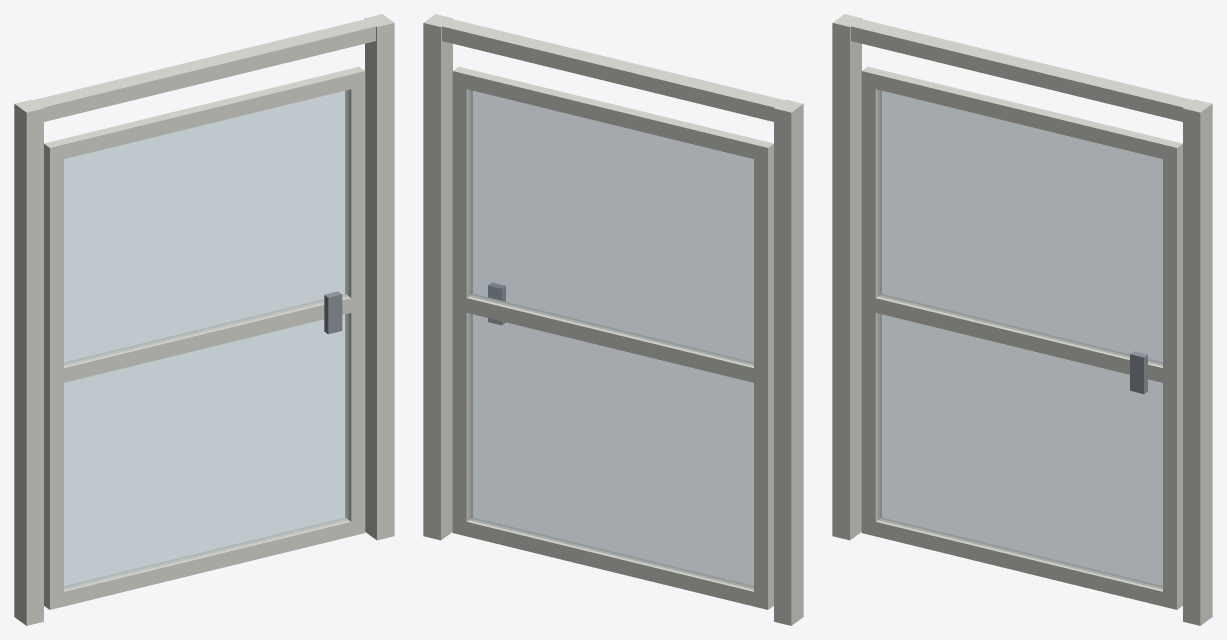
File: Greenhouse_Door@Open.fbx
The picture shows the model from 3 angles, left to right: view 1: azimuth 30°, elevation 25°; view 2: azimuth 150°, elevation 25°; view 3: azimuth 330°, elevation 25°; orthographic projection.
Parts seen in each view (by area): view 1: Greenhouse_Door_Door, Greenhouse_Door_Body; view 2: Greenhouse_Door_Door, Greenhouse_Door_Body; view 3: Greenhouse_Door_Door, Greenhouse_Door_Body.
Boxes of the visible parts, x1=… form: Greenhouse_Door_Door: x1=44, y1=66, x2=365, y2=609; Greenhouse_Door_Body: x1=14, y1=14, x2=394, y2=625; Greenhouse_Door_Door: x1=452, y1=66, x2=773, y2=609; Greenhouse_Door_Body: x1=423, y1=14, x2=803, y2=625; Greenhouse_Door_Door: x1=861, y1=66, x2=1182, y2=609; Greenhouse_Door_Body: x1=832, y1=14, x2=1212, y2=625.
Bounding box in the file's own units: 1.05 × 1.4 × 0.07.
